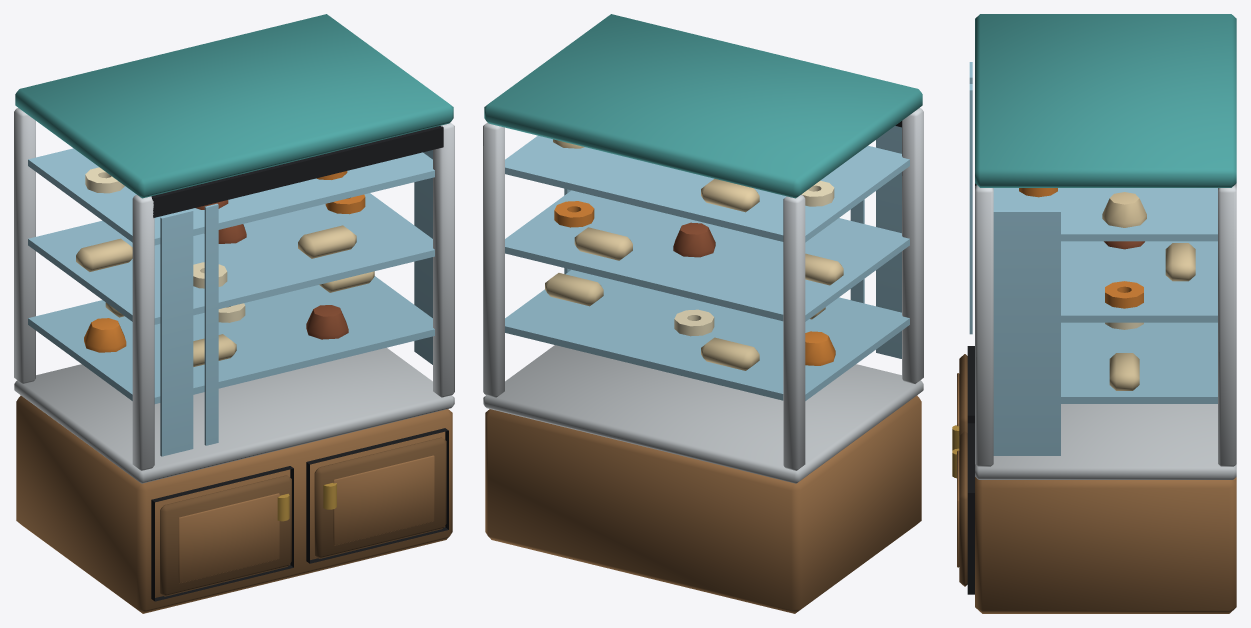
Rendered from DisplayCase_Bakery_10.glb.
The picture shows the model from 3 angles, left to right: view 1: azimuth 30°, elevation 25°; view 2: azimuth 150°, elevation 25°; view 3: azimuth 270°, elevation 25°; orthographic projection. The views are drawn at different scales.
Parts seen in each view (by area): view 1: SM_DisplayCase_Bakery_10; view 2: SM_DisplayCase_Bakery_10; view 3: SM_DisplayCase_Bakery_10.
Boxes of the visible parts, x1,y1,x2,y2 form: SM_DisplayCase_Bakery_10: (14,14,454,613); SM_DisplayCase_Bakery_10: (483,14,923,613); SM_DisplayCase_Bakery_10: (952,14,1236,613).
Size of the model in its own units: 1.01 by 1.32 by 0.761.
Materials: 1 (1 with a texture image).
